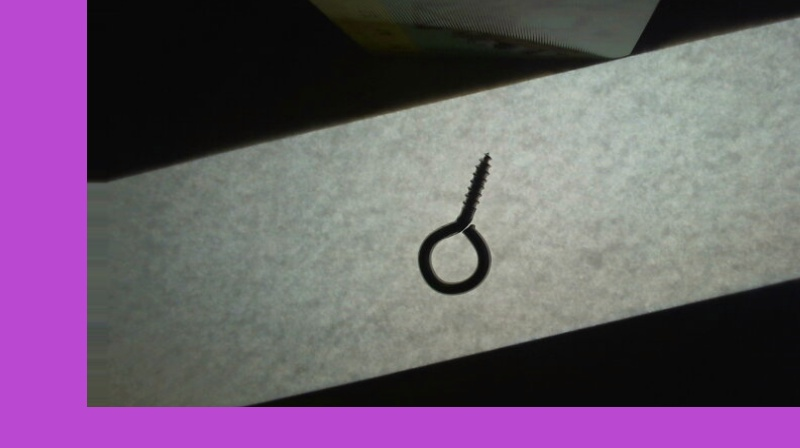O001: (415, 149, 501, 296)
